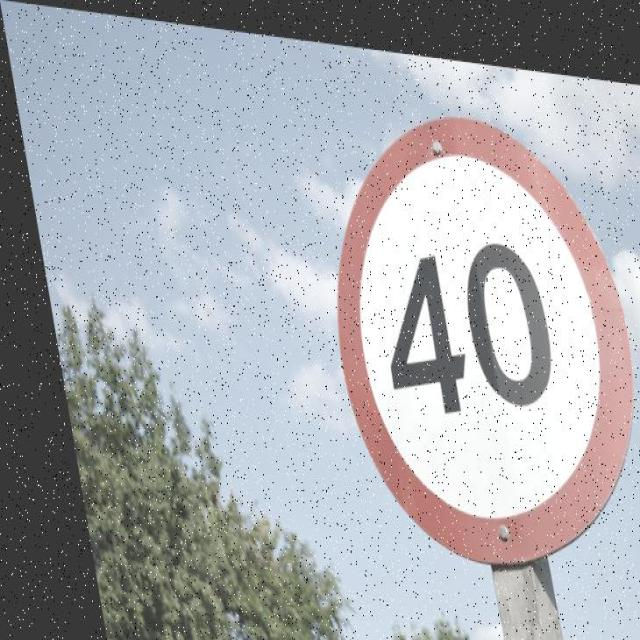speed limit 40: (338, 118, 634, 565)
